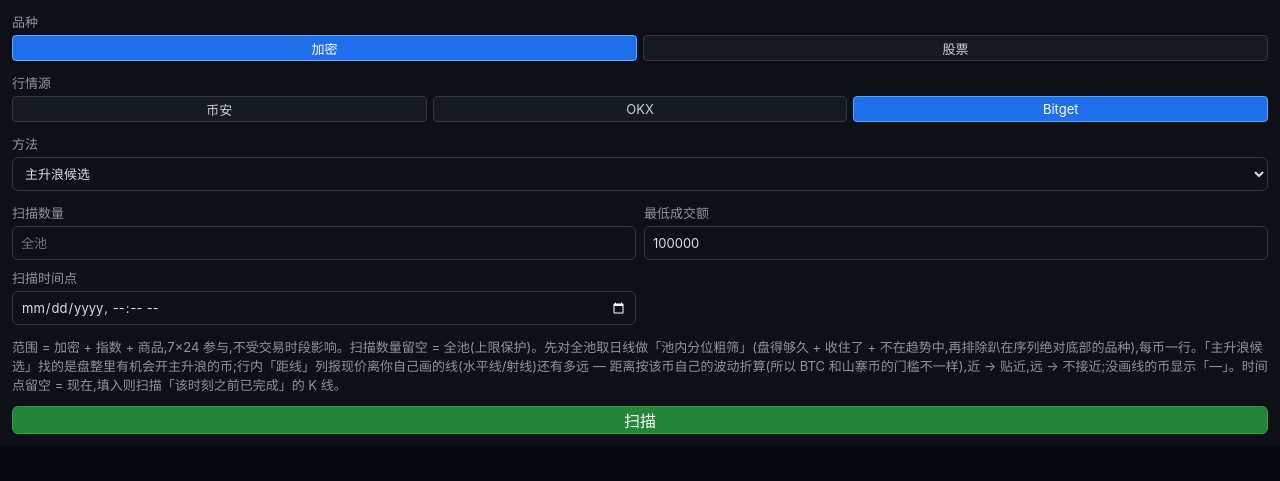
Scenario: CoinScanPanel 行情源 (data source) › sends 扫描数量 as an upper cap when it is filled in, and rejects a non-positive one
Type "300" into the number field labelled "扫描数量".
click(324, 243); type("300")  # box 12,226 -> 636,260
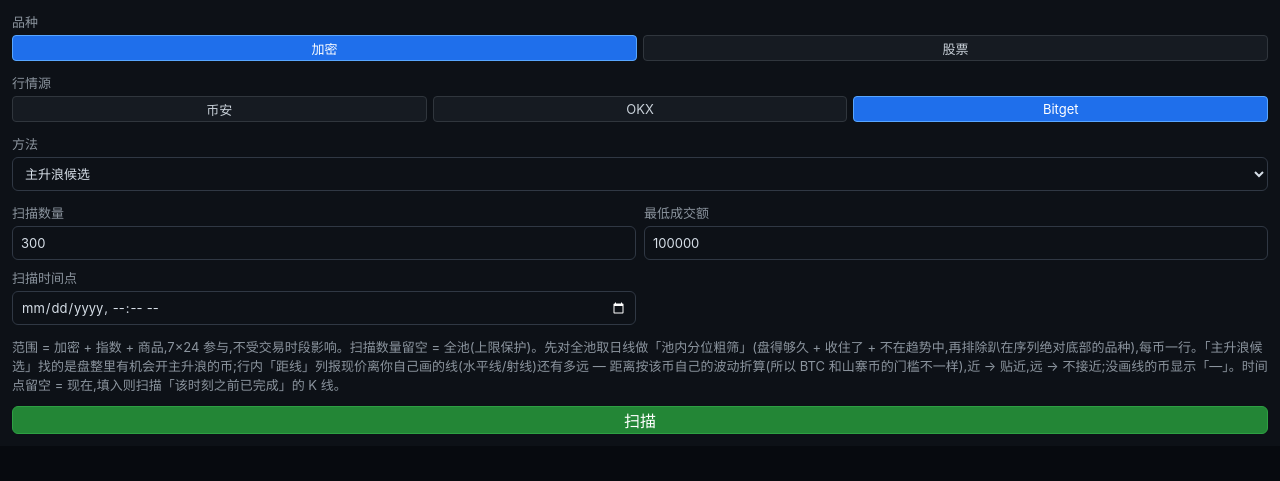
Click the button "扫描".
click(640, 420)  # box 12,406 -> 1268,434
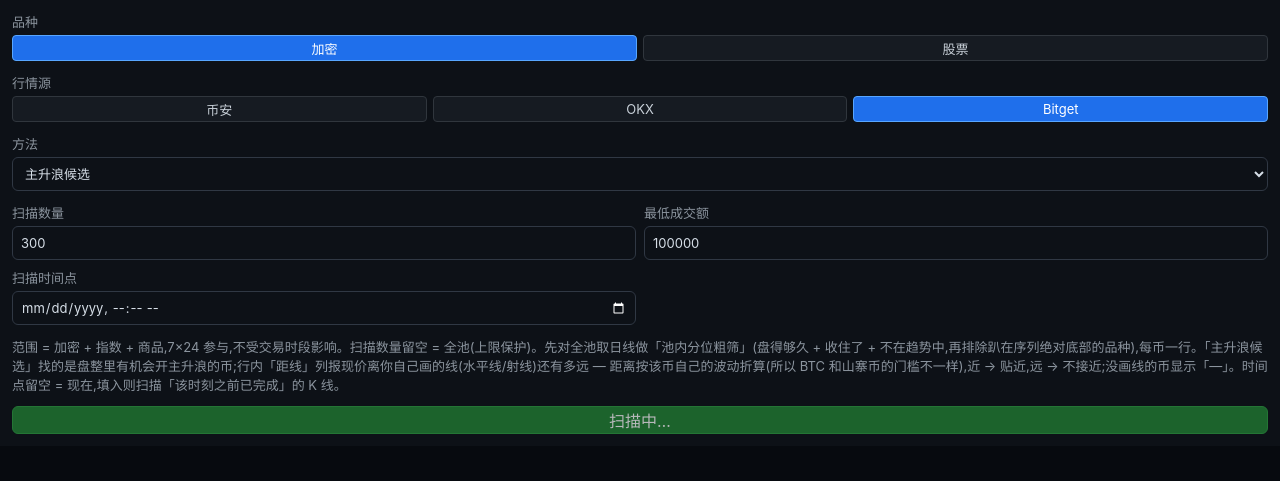
Replace the text in the number field labelled "扫描数量" with "0" at (324, 243), box 12,226 -> 636,260
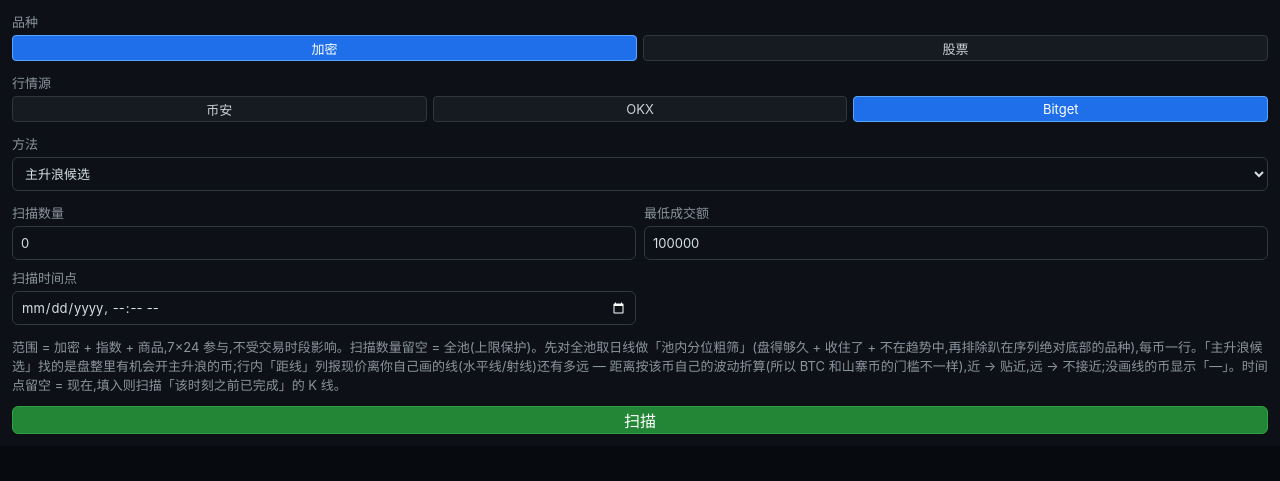
Click the button "扫描".
click(640, 420)  # box 12,406 -> 1268,434
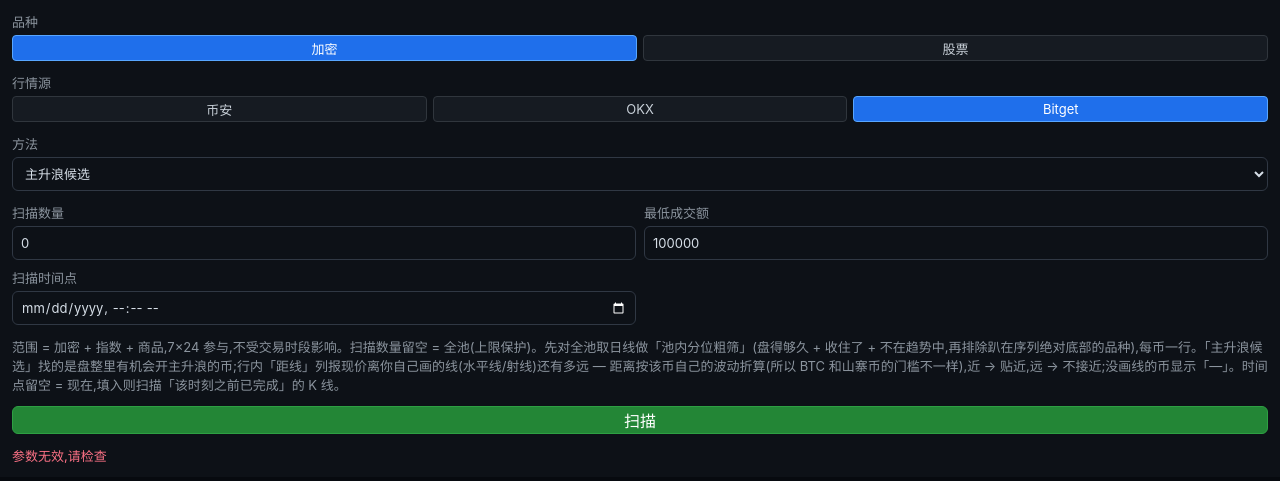
Check: the text "参数无效,请检查" is shown, box 12,448 -> 107,464
